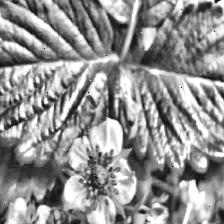Blossom Blight: (78, 144, 124, 212)
